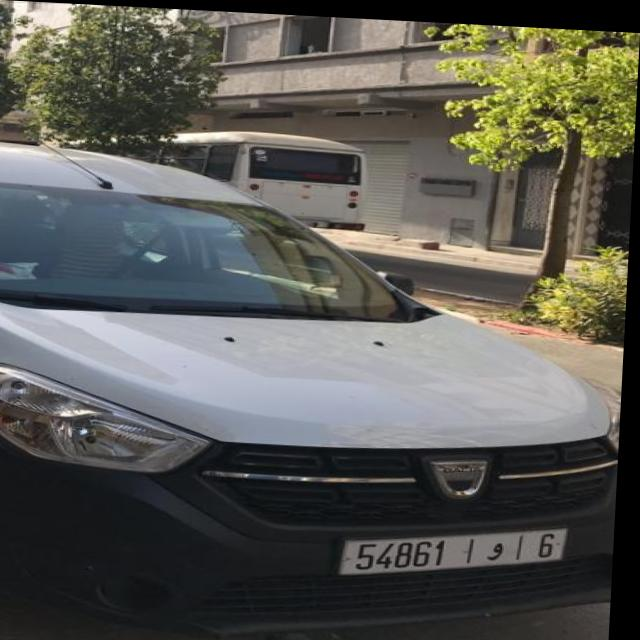License-Plate: (344, 524, 573, 571)
